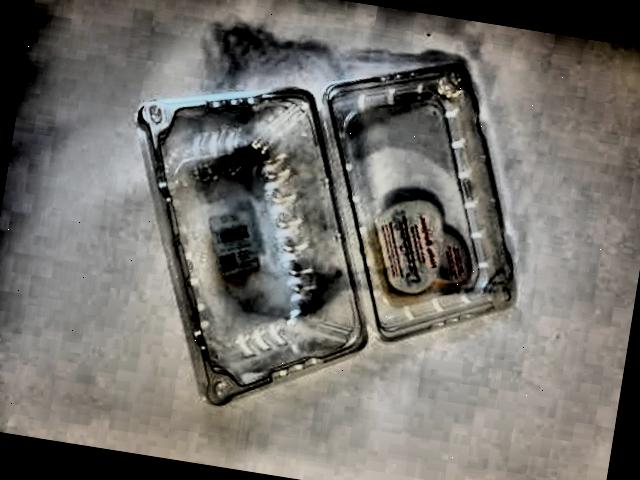Plastic: (74, 0, 582, 480)
